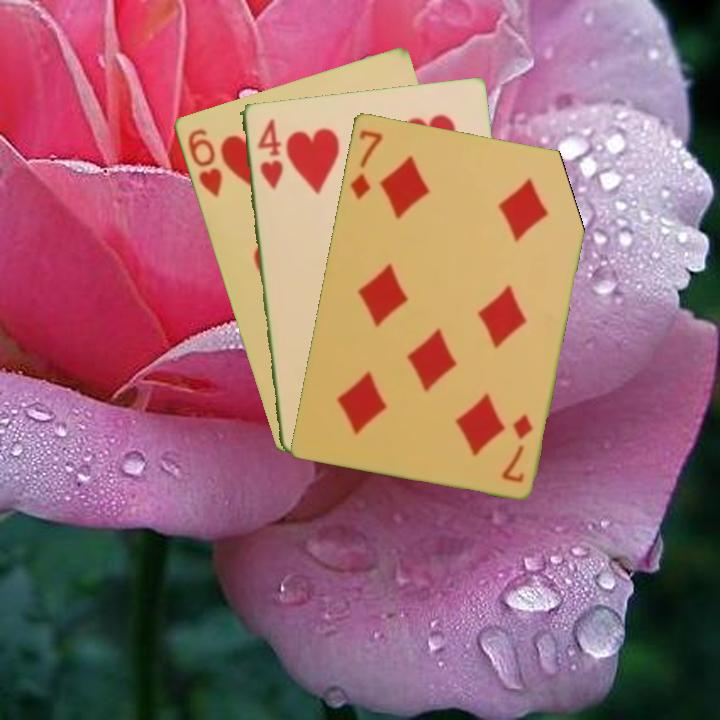4h: (253, 115, 285, 191)
6h: (183, 125, 225, 200)
7d: (346, 126, 386, 202), (498, 410, 536, 485)
